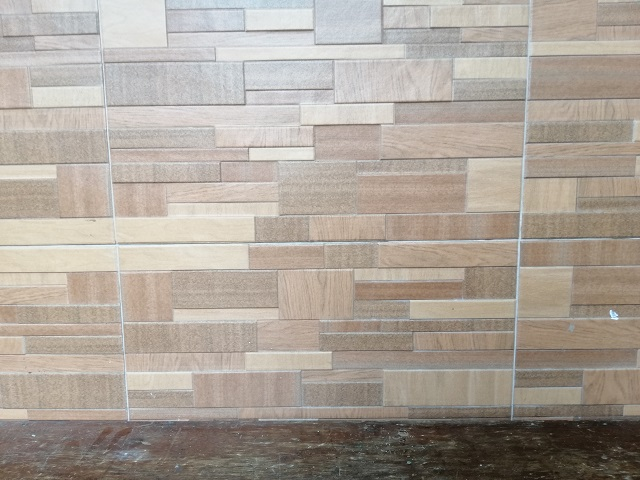wall: (1, 1, 640, 422)
